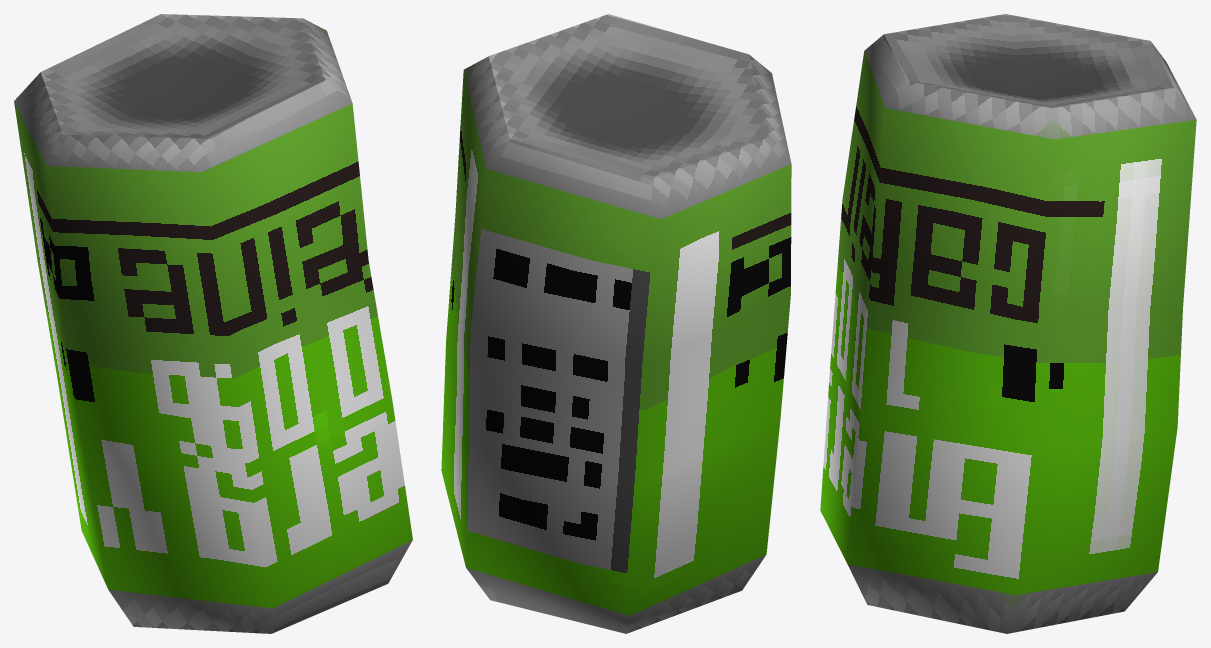
The model's file is H_GenericCanPop.fbx.
3 renders of one model, left to right at view 1: azimuth 30°, elevation 25°; view 2: azimuth 150°, elevation 25°; view 3: azimuth 270°, elevation 25°, orthographic. The views are drawn at different scales.
Visible parts, largest first — view 1: H_Can; view 2: H_Can; view 3: H_Can.
Boxes of the visible parts, x1,y1,x2,y2 form: H_Can: (14,14,412,633); H_Can: (441,14,791,633); H_Can: (820,14,1196,633).
Bounding box in the file's own units: 17.57 × 25.63 × 16.33.
